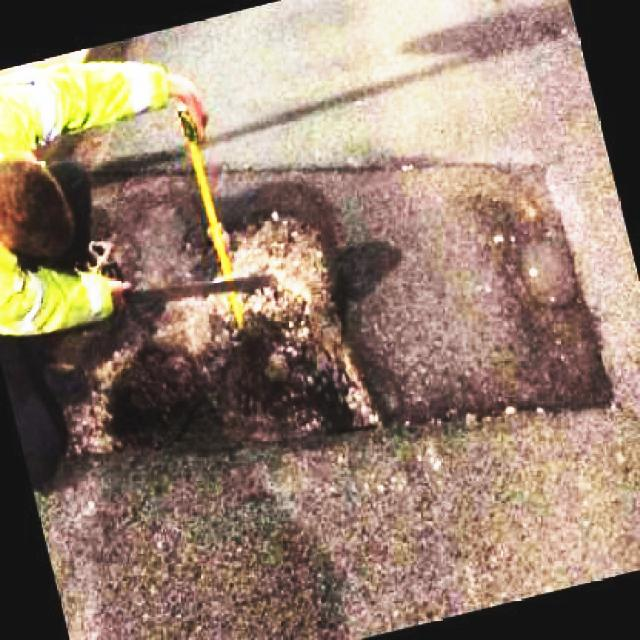pothole: (55, 202, 391, 458)
